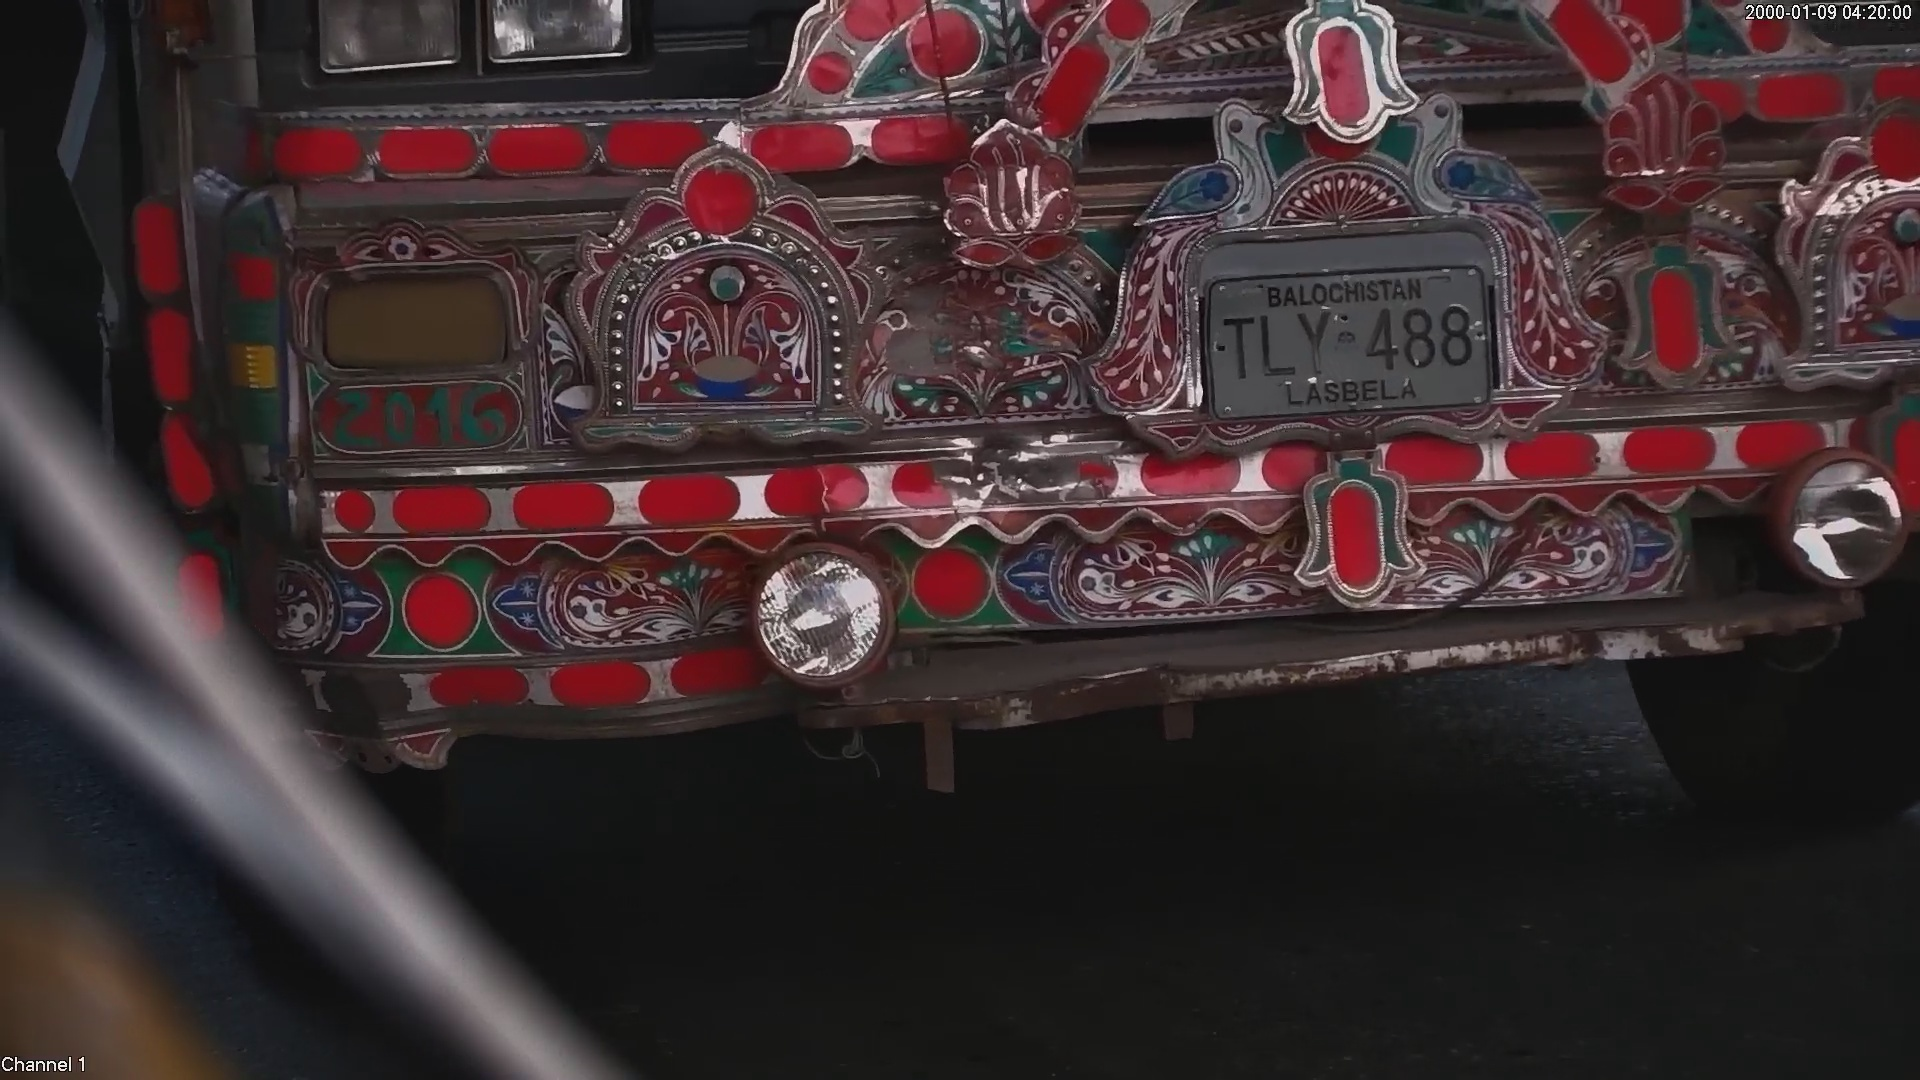Number_Plate: (1173, 223, 1539, 442)
Undefined: (300, 3, 687, 125), (732, 536, 928, 694), (302, 359, 550, 475)
